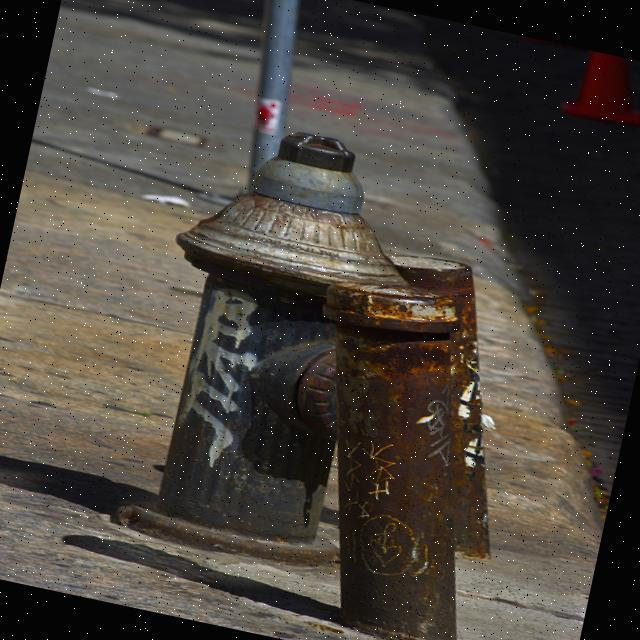fire_hydrant: (106, 109, 434, 584)
